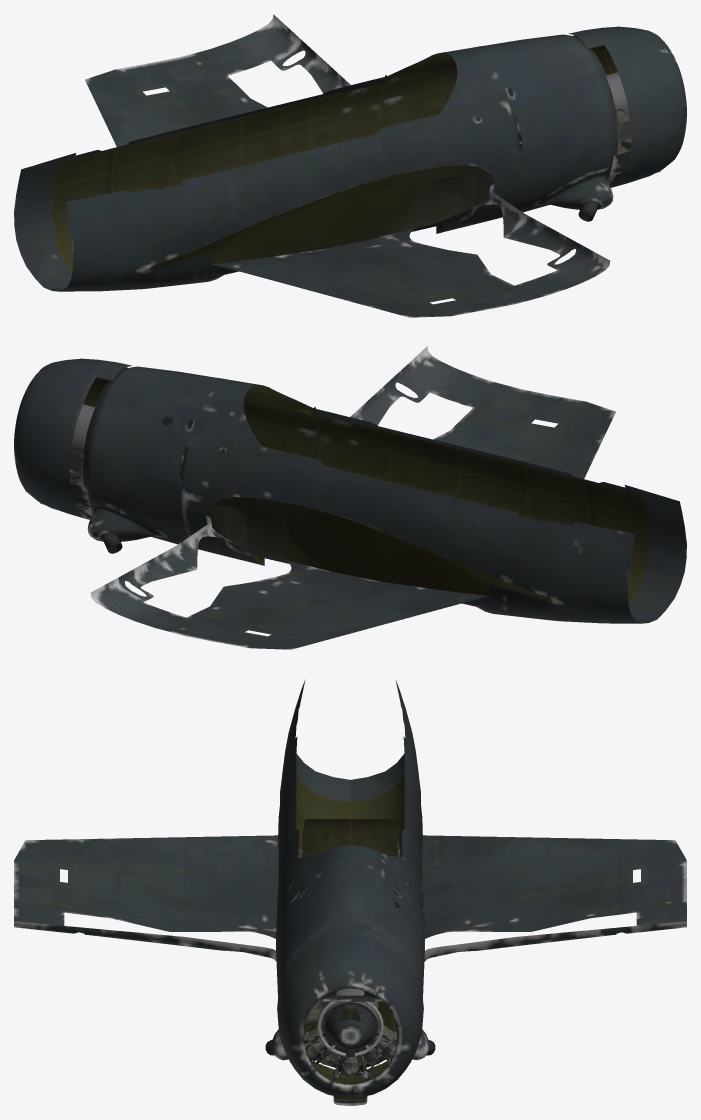
3 views of the same model, one above another, from view 1: azimuth 30°, elevation 25°; view 2: azimuth 150°, elevation 25°; view 3: azimuth 270°, elevation 25° (orthographic).
Visible parts, largest first — view 1: sb2c_5_0.2892; view 2: sb2c_5_0.2892; view 3: sb2c_5_0.2892.
Boxes of the visible parts, x1,y1,x2,y2 form: sb2c_5_0.2892: [14, 14, 686, 317]; sb2c_5_0.2892: [14, 346, 686, 649]; sb2c_5_0.2892: [14, 680, 686, 1105].
Size of the model in its own units: 7.23 by 1.85 by 6.79.
